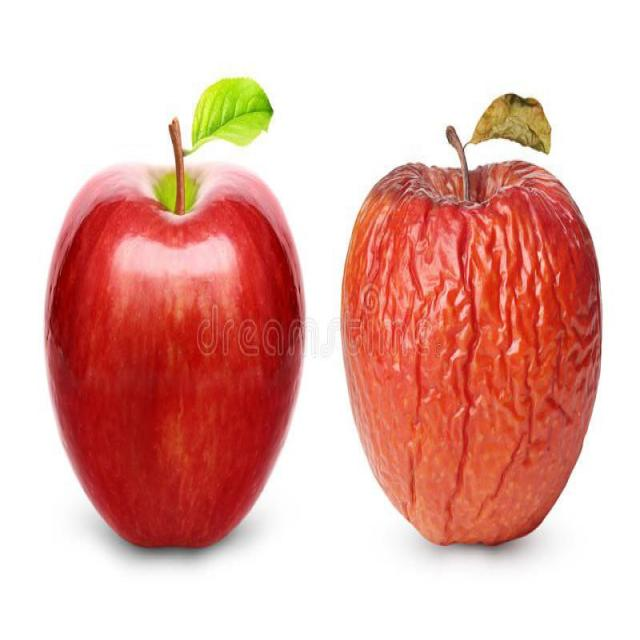fresh_apple: (44, 167, 304, 552)
rotten_apple: (343, 158, 605, 546)
